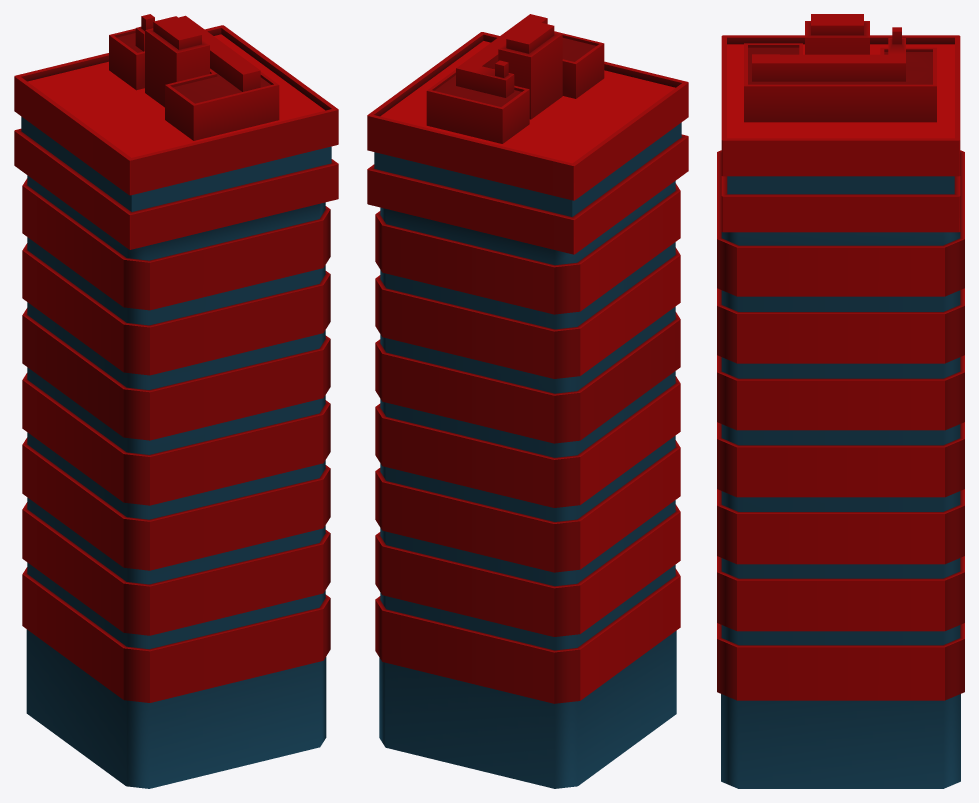
The model's file is buildings-industrial-traditionalskyscraper_v8.fbx.
3 views of the same model, side by side, from view 1: azimuth 30°, elevation 25°; view 2: azimuth 150°, elevation 25°; view 3: azimuth 270°, elevation 25° (orthographic). The views are drawn at different scales.
Parts seen in each view (by area): view 1: TraditionalSkyscraper_v8_base, TraditionalSkyscraper_v8_windowRefl; view 2: TraditionalSkyscraper_v8_base, TraditionalSkyscraper_v8_windowRefl; view 3: TraditionalSkyscraper_v8_base, TraditionalSkyscraper_v8_windowRefl.
Part boxes in pixels (x1,y1,x2,y2): TraditionalSkyscraper_v8_base: (14, 14, 338, 702); TraditionalSkyscraper_v8_windowRefl: (21, 116, 331, 788); TraditionalSkyscraper_v8_base: (367, 14, 688, 703); TraditionalSkyscraper_v8_windowRefl: (374, 122, 681, 788); TraditionalSkyscraper_v8_base: (717, 14, 964, 700); TraditionalSkyscraper_v8_windowRefl: (721, 176, 960, 788).
Bounding box in the file's own units: 21.84 × 69.6 × 21.75.
